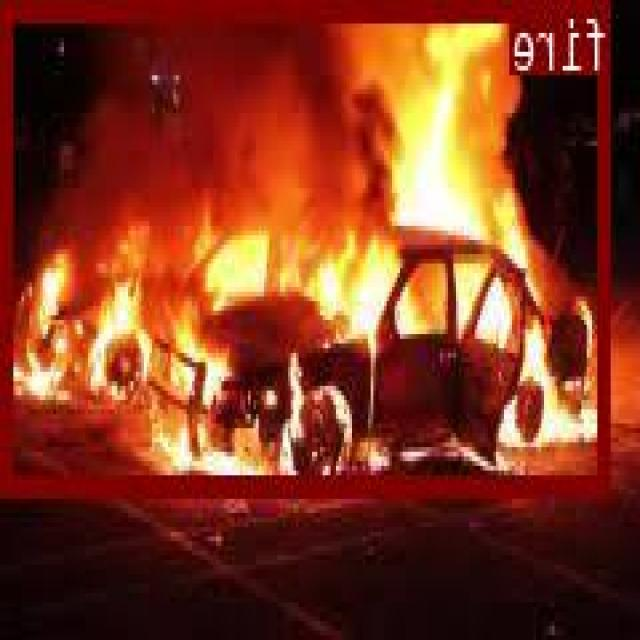fire: (6, 0, 611, 489)
